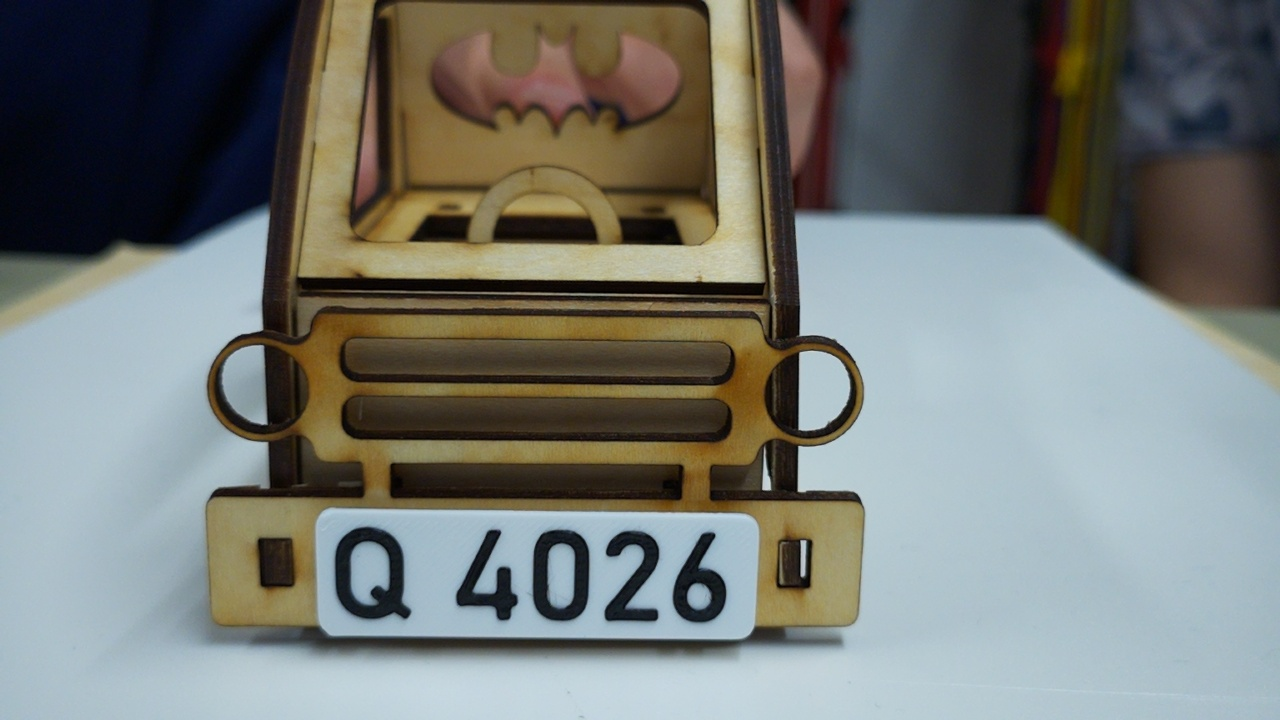license_plate: (314, 508, 760, 640)
